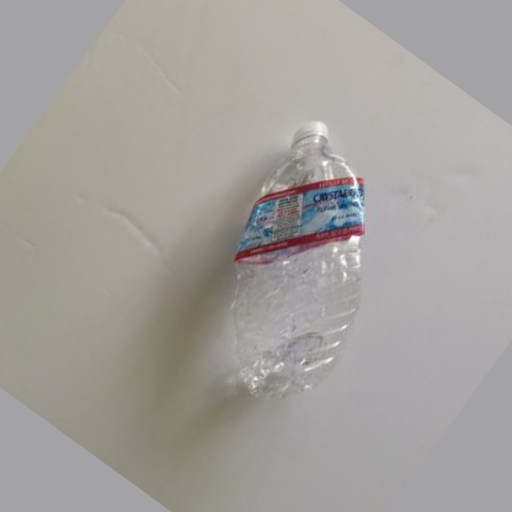Plastic_0: (234, 119, 365, 400)
